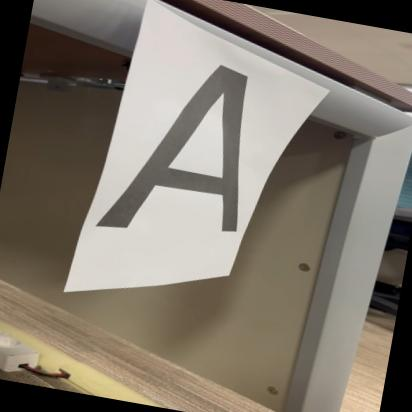seat: (89, 50, 278, 264)
